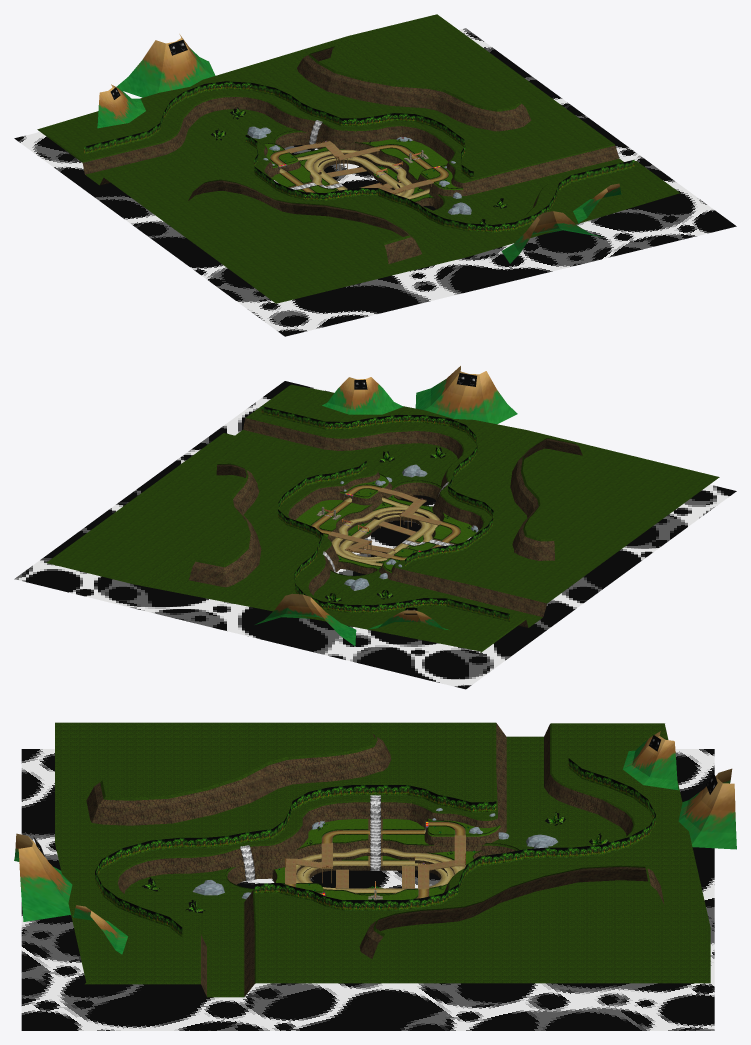
3 renders of one model, top to bottom at view 1: azimuth 30°, elevation 25°; view 2: azimuth 150°, elevation 25°; view 3: azimuth 270°, elevation 25°, orthographic. The views are drawn at different scales.
Parts seen in each view (by area): view 1: WaterfallDKJP-bridge-SKP--grassdark, WaterfallDKJP-bridge-SKP--aqua, WaterfallDKJP-bridge-SKP--rockwall, WaterfallDKJP-bridge-SKP--Material6, WaterfallDKJP-bridge-SKP--Material23, WaterfallDKJP-bridge-SKP--lightgrass, WaterfallDKJP-bridge-SKP--Material19, WaterfallDKJP-bridge-SKP--bruhidge, WaterfallDKJP-bridge-SKP--grassedge, WaterfallDKJP-bridge-SKP--durtyting, WaterfallDKJP-bridge-SKP--stoner; view 2: WaterfallDKJP-bridge-SKP--grassdark, WaterfallDKJP-bridge-SKP--aqua, WaterfallDKJP-bridge-SKP--rockwall, WaterfallDKJP-bridge-SKP--Material23, WaterfallDKJP-bridge-SKP--Material6, WaterfallDKJP-bridge-SKP--lightgrass, WaterfallDKJP-bridge-SKP--Material19, WaterfallDKJP-bridge-SKP--bruhidge, WaterfallDKJP-bridge-SKP--grassedge, WaterfallDKJP-bridge-SKP--durtyting, WaterfallDKJP-bridge-SKP--stoner; view 3: WaterfallDKJP-bridge-SKP--grassdark, WaterfallDKJP-bridge-SKP--aqua, WaterfallDKJP-bridge-SKP--rockwall, WaterfallDKJP-bridge-SKP--Material6, WaterfallDKJP-bridge-SKP--Material23, WaterfallDKJP-bridge-SKP--lightgrass, WaterfallDKJP-bridge-SKP--bruhidge, WaterfallDKJP-bridge-SKP--Material19, WaterfallDKJP-bridge-SKP--grassedge, WaterfallDKJP-bridge-SKP--waterdofall, WaterfallDKJP-bridge-SKP--stoner, WaterfallDKJP-bridge-SKP--durtyting (+1 smaller).
Part boxes in pixels (x1,y1,x2,y2): WaterfallDKJP-bridge-SKP--grassdark: (37, 14, 680, 303); WaterfallDKJP-bridge-SKP--aqua: (14, 28, 736, 336); WaterfallDKJP-bridge-SKP--rockwall: (82, 47, 619, 263); WaterfallDKJP-bridge-SKP--Material6: (84, 81, 634, 232); WaterfallDKJP-bridge-SKP--Material23: (97, 34, 621, 263); WaterfallDKJP-bridge-SKP--lightgrass: (264, 139, 463, 201); WaterfallDKJP-bridge-SKP--Material19: (279, 149, 429, 199); WaterfallDKJP-bridge-SKP--bruhidge: (285, 141, 433, 194); WaterfallDKJP-bridge-SKP--grassedge: (263, 130, 462, 210); WaterfallDKJP-bridge-SKP--durtyting: (270, 145, 448, 192); WaterfallDKJP-bridge-SKP--stoner: (247, 126, 471, 214); WaterfallDKJP-bridge-SKP--grassdark: (46, 384, 719, 652); WaterfallDKJP-bridge-SKP--aqua: (14, 381, 736, 689); WaterfallDKJP-bridge-SKP--rockwall: (189, 418, 582, 627); WaterfallDKJP-bridge-SKP--Material23: (255, 366, 517, 645); WaterfallDKJP-bridge-SKP--Material6: (261, 406, 509, 621); WaterfallDKJP-bridge-SKP--lightgrass: (296, 474, 476, 573); WaterfallDKJP-bridge-SKP--Material19: (331, 497, 440, 566); WaterfallDKJP-bridge-SKP--bruhidge: (328, 487, 442, 559); WaterfallDKJP-bridge-SKP--grassedge: (311, 473, 460, 576); WaterfallDKJP-bridge-SKP--durtyting: (311, 485, 460, 560); WaterfallDKJP-bridge-SKP--stoner: (340, 464, 478, 590); WaterfallDKJP-bridge-SKP--grassdark: (55, 722, 710, 997); WaterfallDKJP-bridge-SKP--aqua: (21, 749, 714, 1030); WaterfallDKJP-bridge-SKP--rockwall: (86, 723, 664, 996); WaterfallDKJP-bridge-SKP--Material6: (95, 758, 655, 937); WaterfallDKJP-bridge-SKP--Material23: (14, 731, 736, 954); WaterfallDKJP-bridge-SKP--lightgrass: (274, 818, 500, 899); WaterfallDKJP-bridge-SKP--bruhidge: (285, 835, 465, 889); WaterfallDKJP-bridge-SKP--Material19: (296, 830, 465, 893); WaterfallDKJP-bridge-SKP--grassedge: (225, 820, 519, 900); WaterfallDKJP-bridge-SKP--waterdofall: (240, 795, 380, 881); WaterfallDKJP-bridge-SKP--stoner: (192, 808, 557, 899); WaterfallDKJP-bridge-SKP--durtyting: (285, 821, 465, 898).
Bounding box in the file's own units: 176901 × 21557 × 191631.
Materials: 28 (28 with a texture image).
